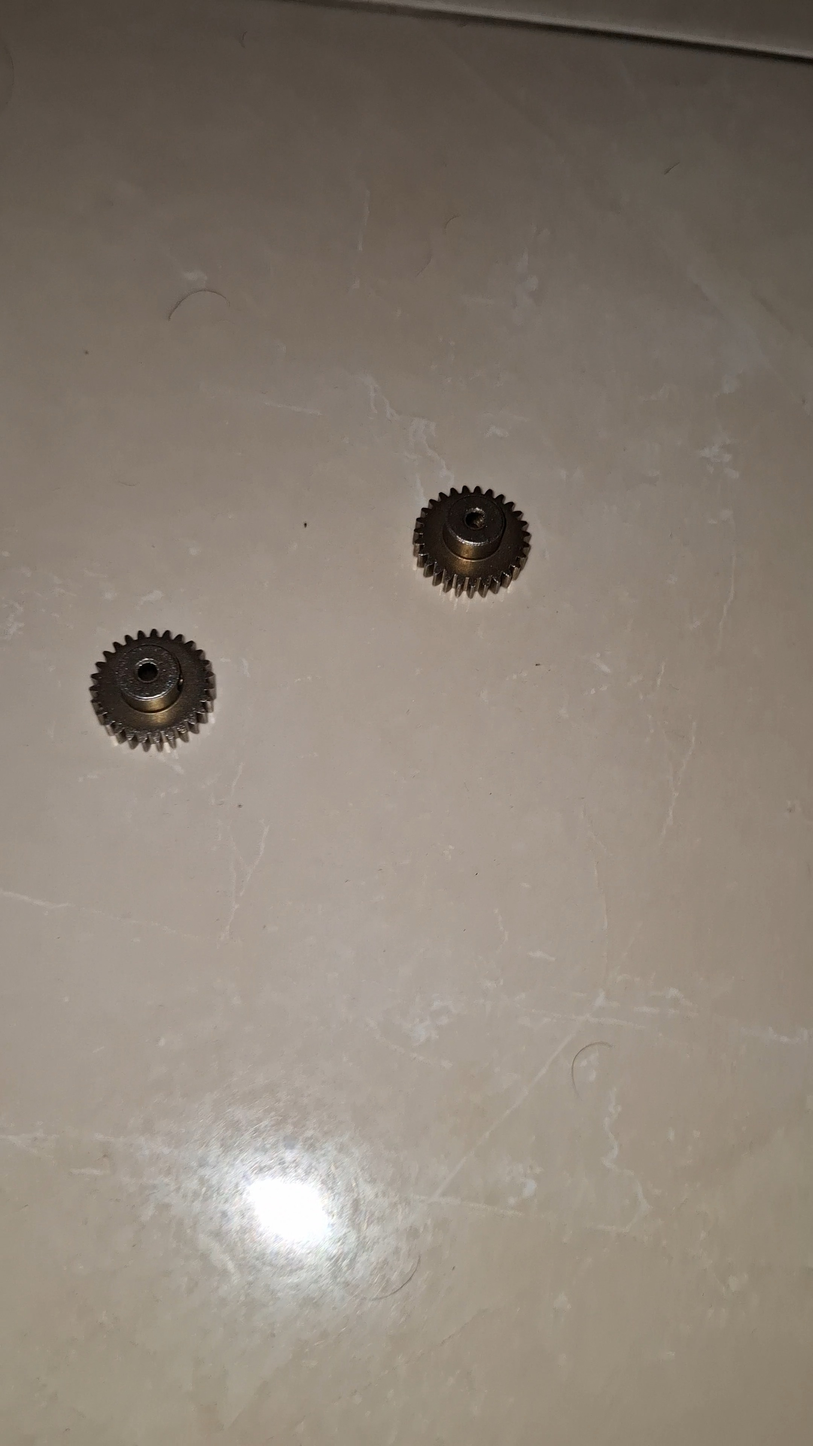spur gear: (90, 630, 215, 749), (413, 487, 530, 596)
